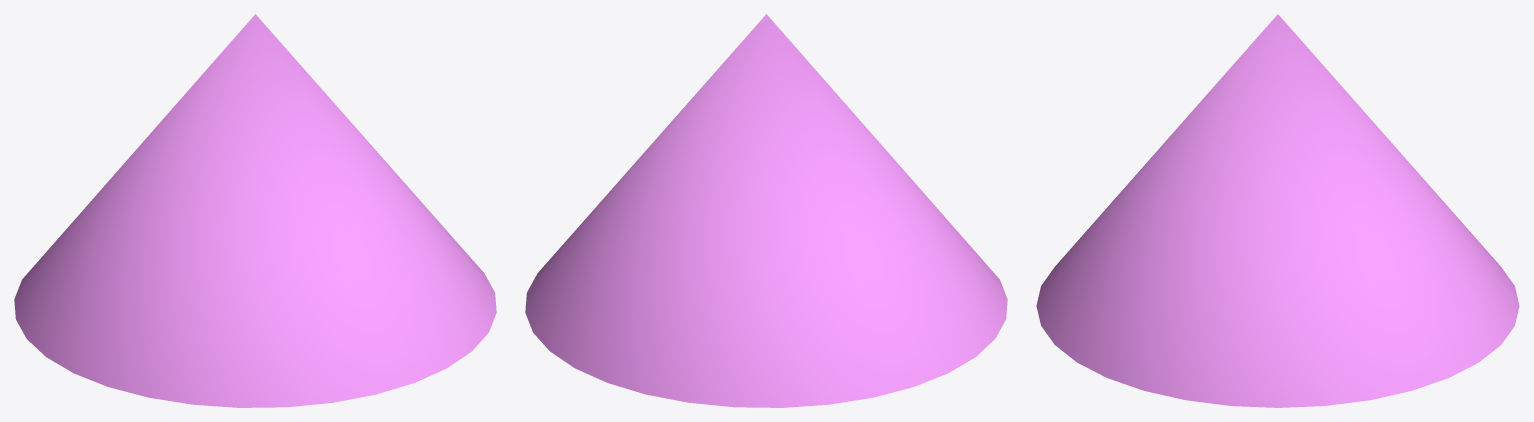
File: Spike.fbx
The picture shows the model from 3 angles, left to right: view 1: azimuth 30°, elevation 25°; view 2: azimuth 150°, elevation 25°; view 3: azimuth 270°, elevation 25°; orthographic projection.
Visible parts, largest first — view 1: SpikeTall; view 2: SpikeTall; view 3: SpikeTall.
Part boxes in pixels (left/top/right/bottom): SpikeTall: left=14, top=14, right=496, bottom=407; SpikeTall: left=525, top=14, right=1007, bottom=407; SpikeTall: left=1036, top=14, right=1519, bottom=407.
Size of the model in its own units: 0.45 by 0.3 by 0.45.
